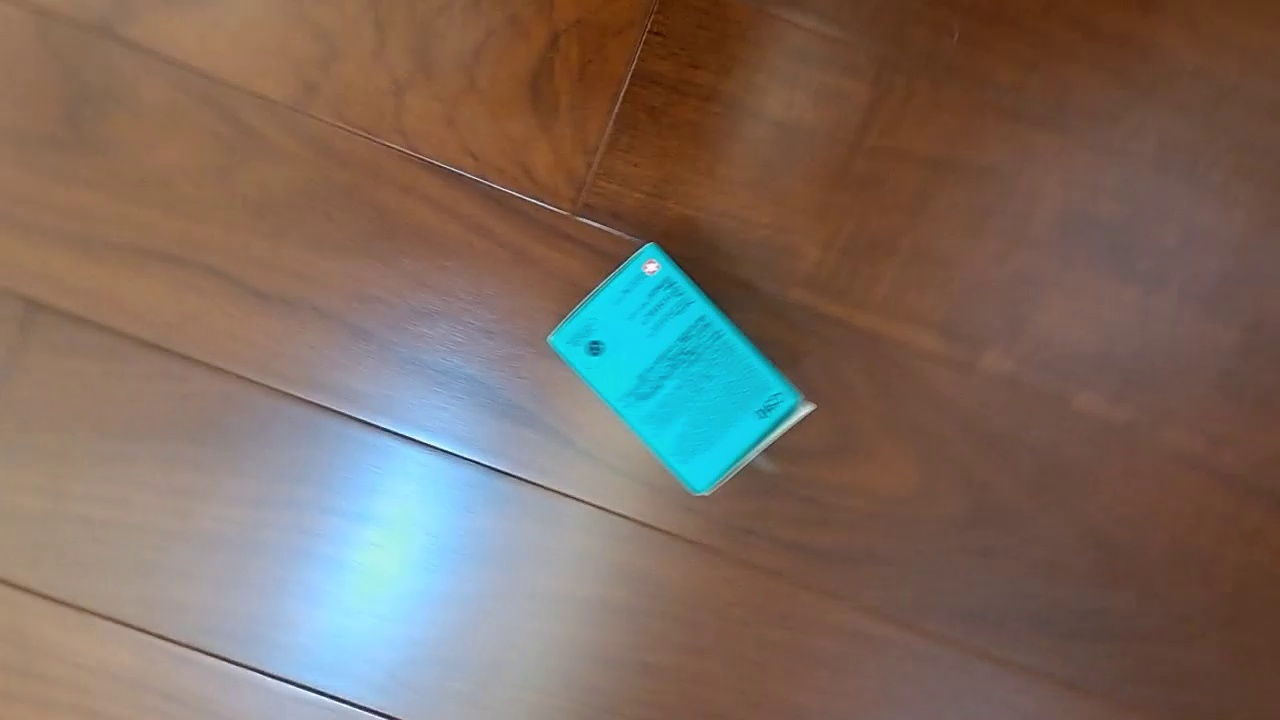webcam: (545, 239, 818, 497)
